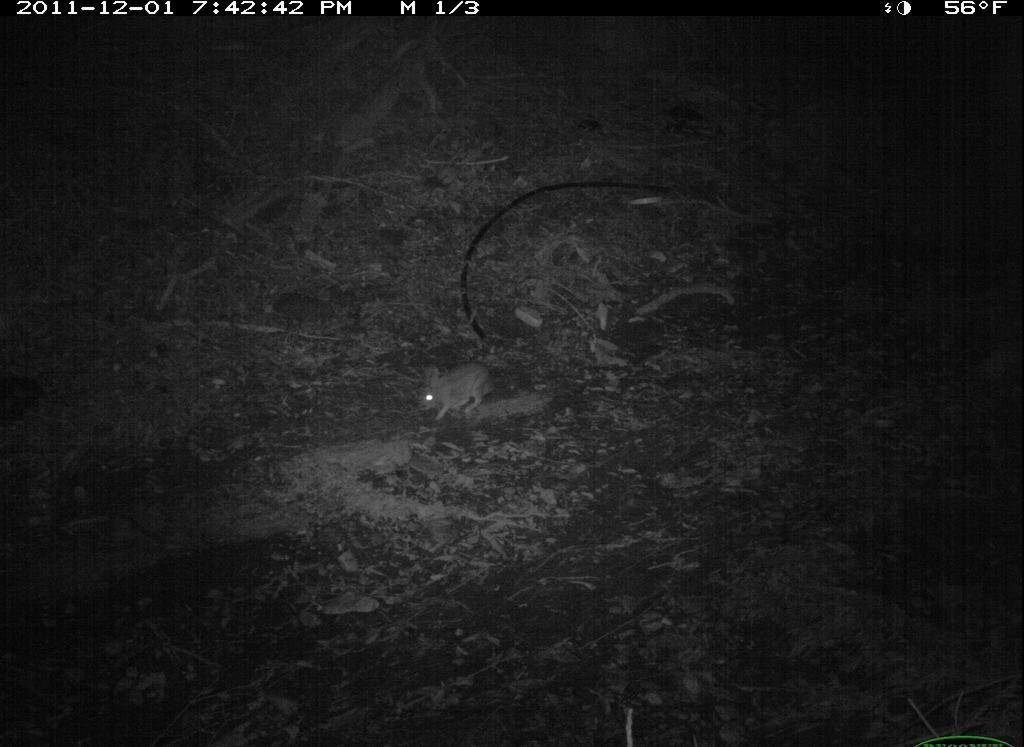rabbit: (410, 356, 502, 427)
